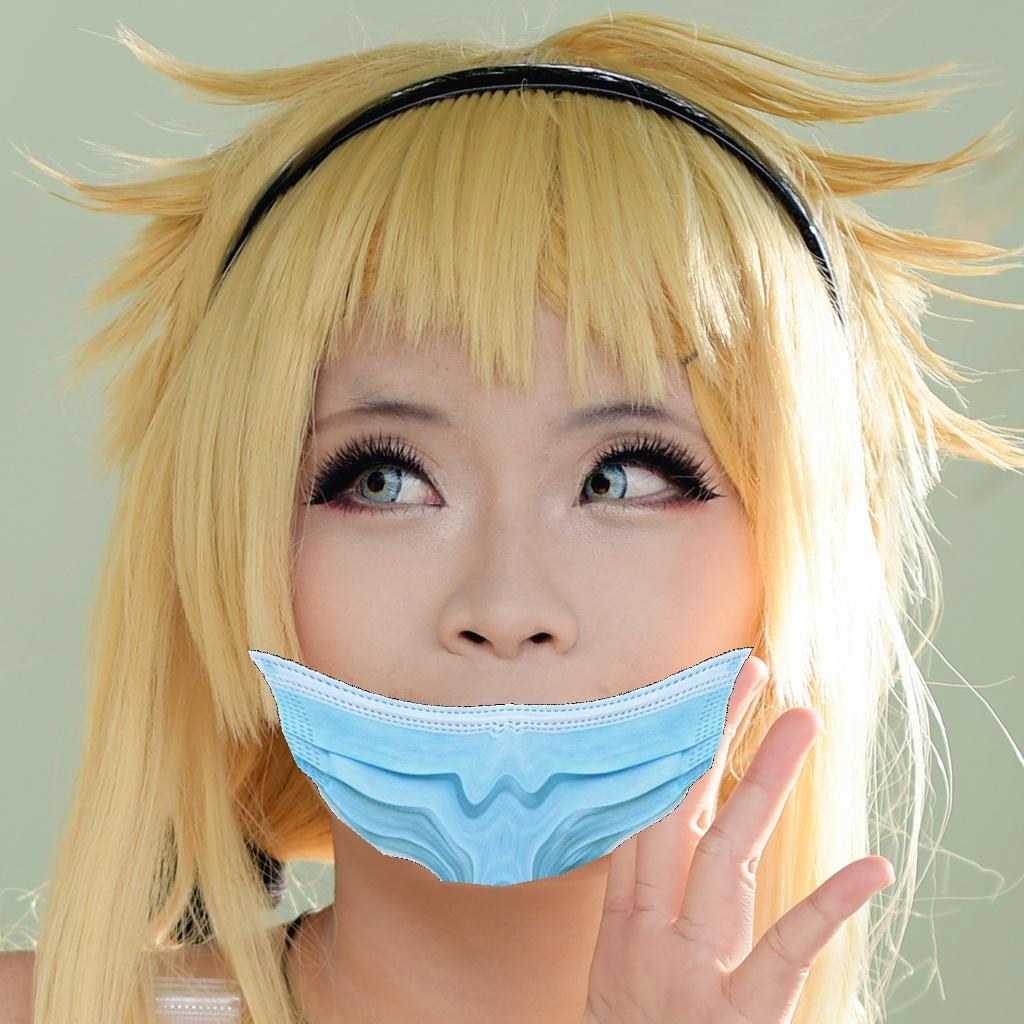Máscara Incorreta: (244, 358, 799, 859)
